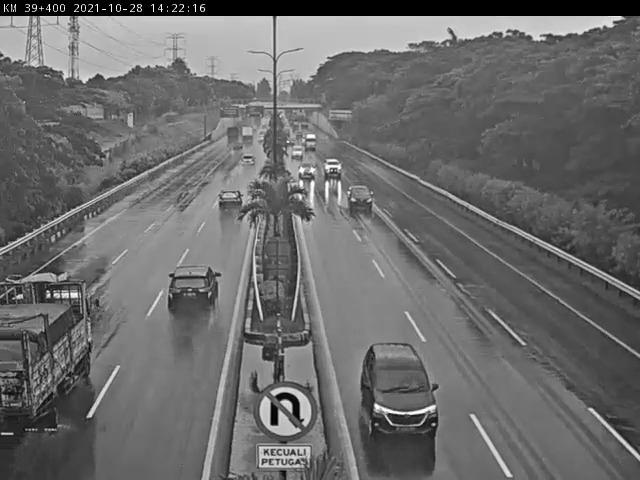car: (355, 340, 447, 445), (161, 261, 233, 324), (340, 180, 375, 209), (210, 192, 244, 219), (236, 154, 259, 174), (296, 158, 315, 177), (321, 156, 339, 175), (289, 143, 305, 159)
small truck: (0, 274, 87, 453)
